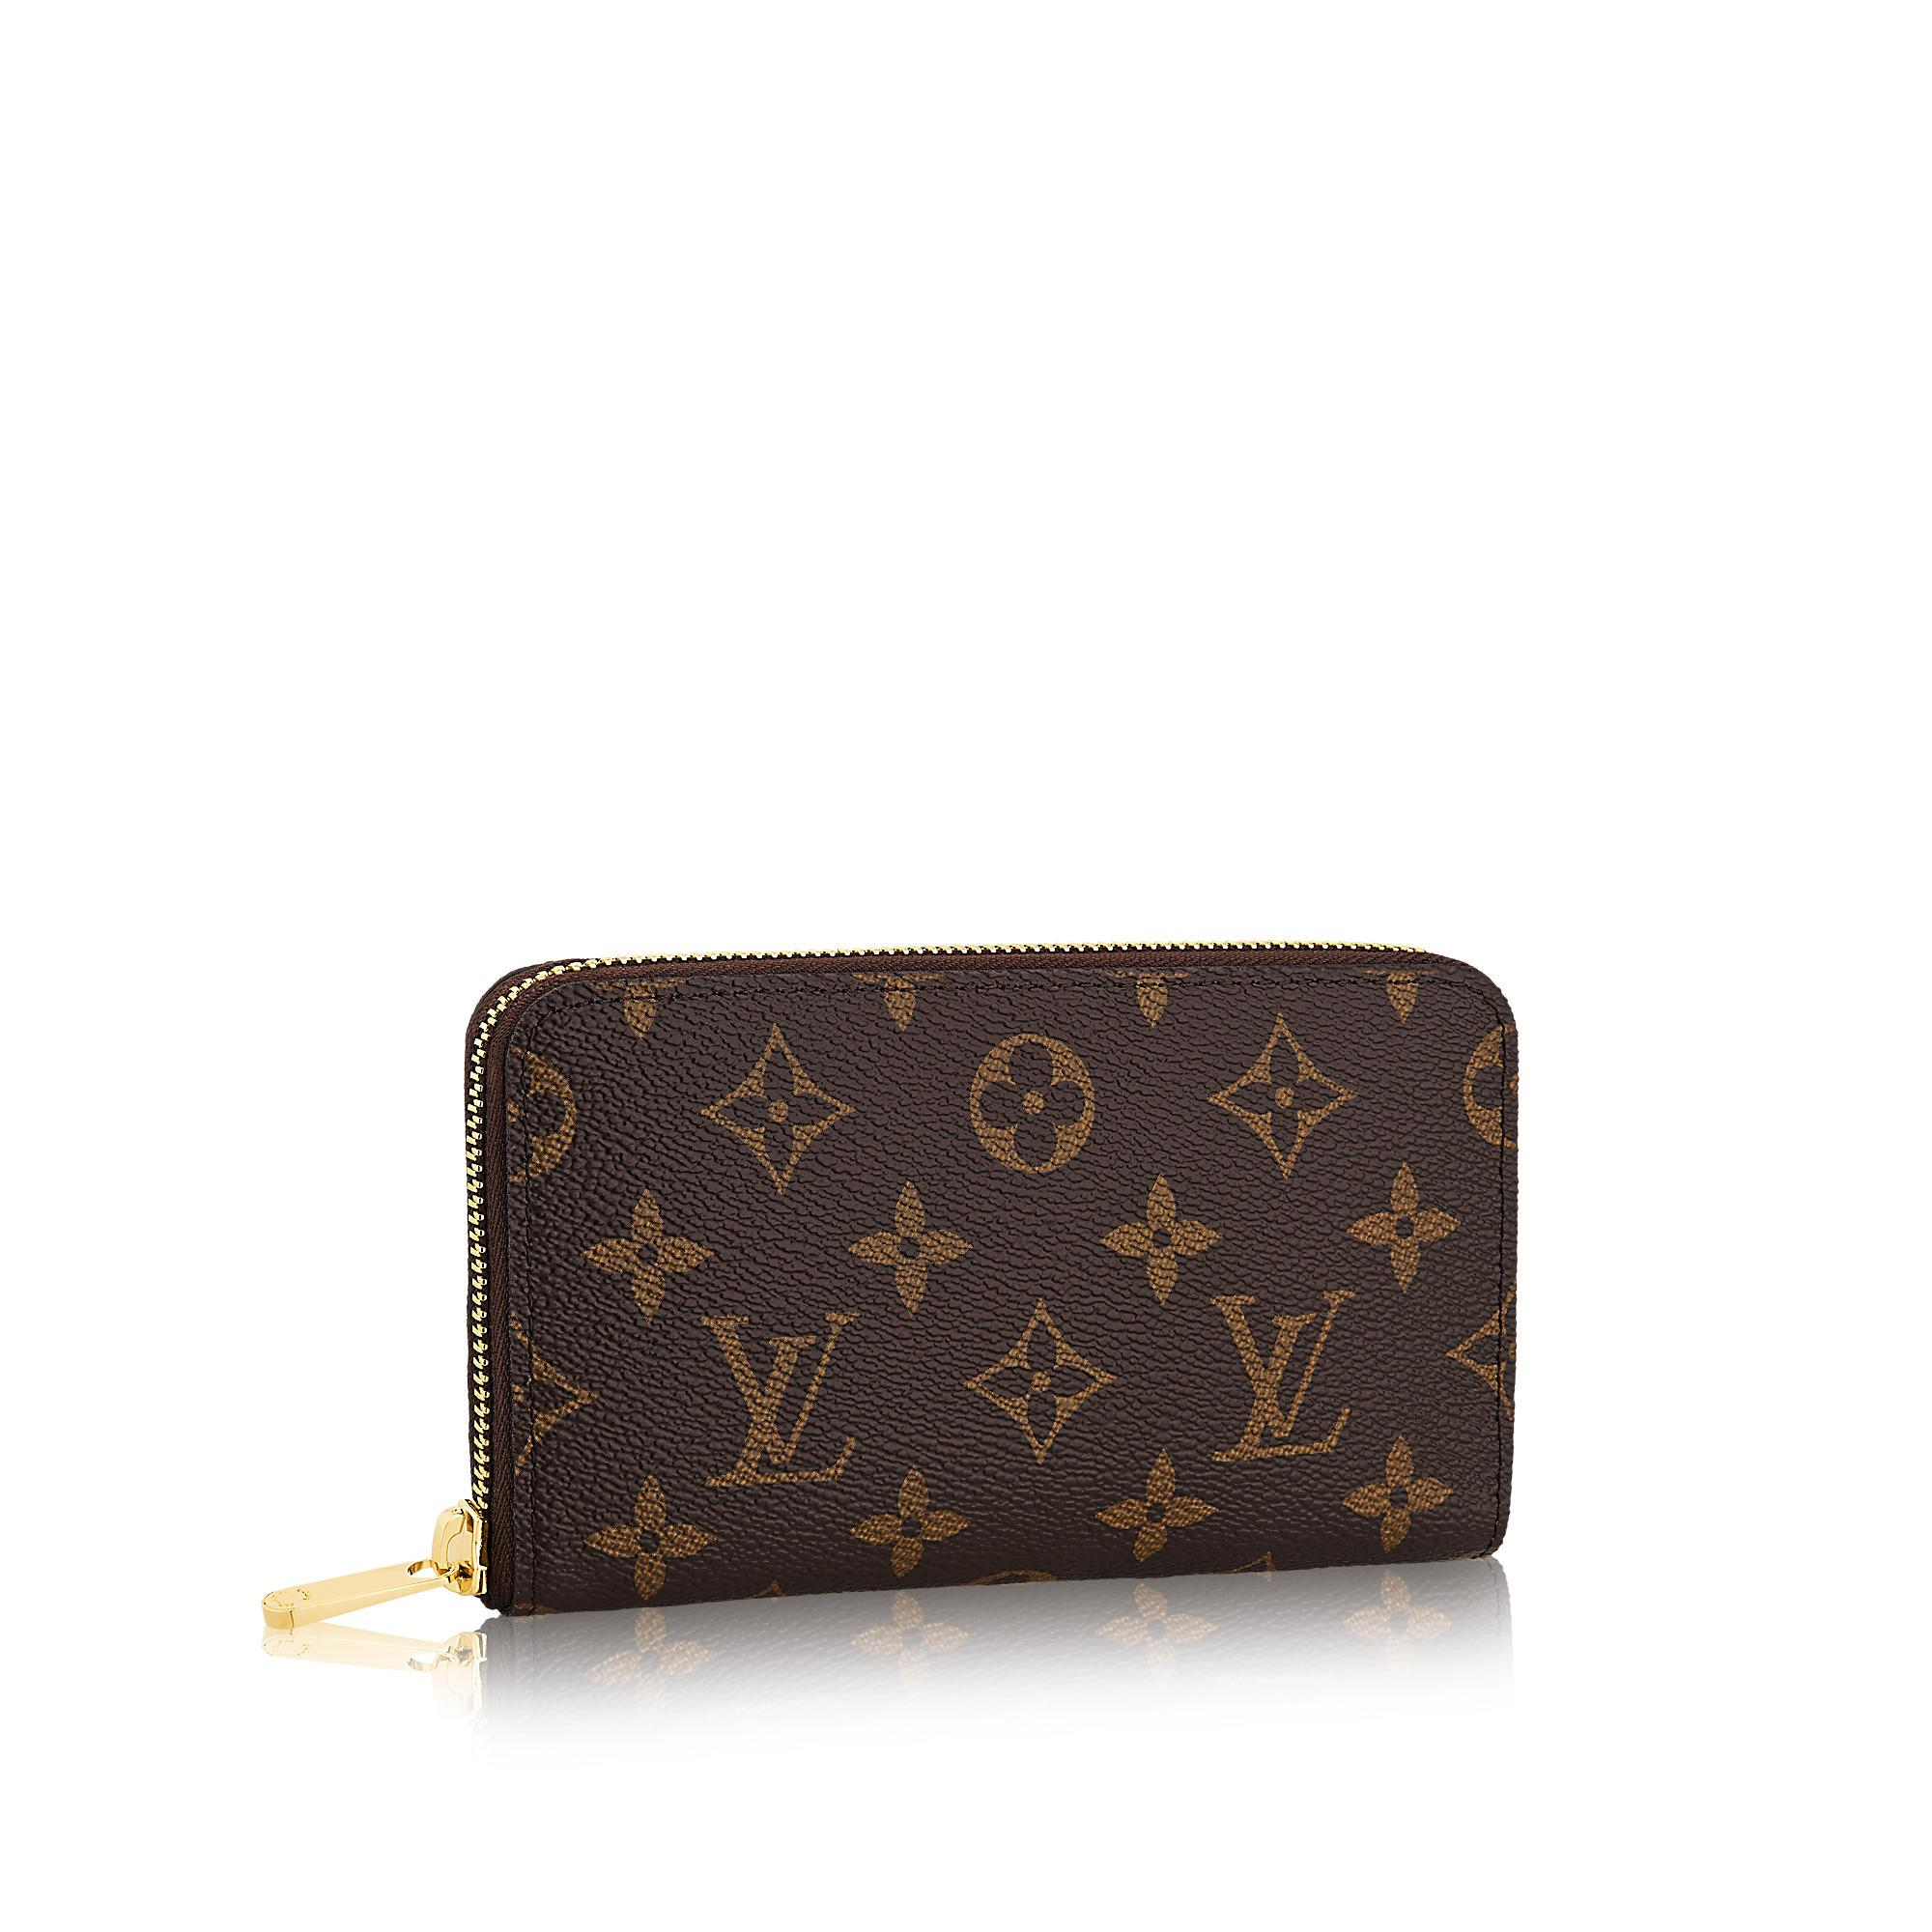LOUIS-VUITTON: (695, 1307, 865, 1491), (1196, 1288, 1361, 1467)
